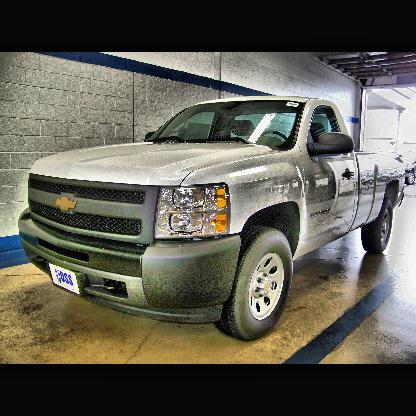Chevrolet Silverado 1500 Regular Cab 2012: (8, 82, 415, 349)
